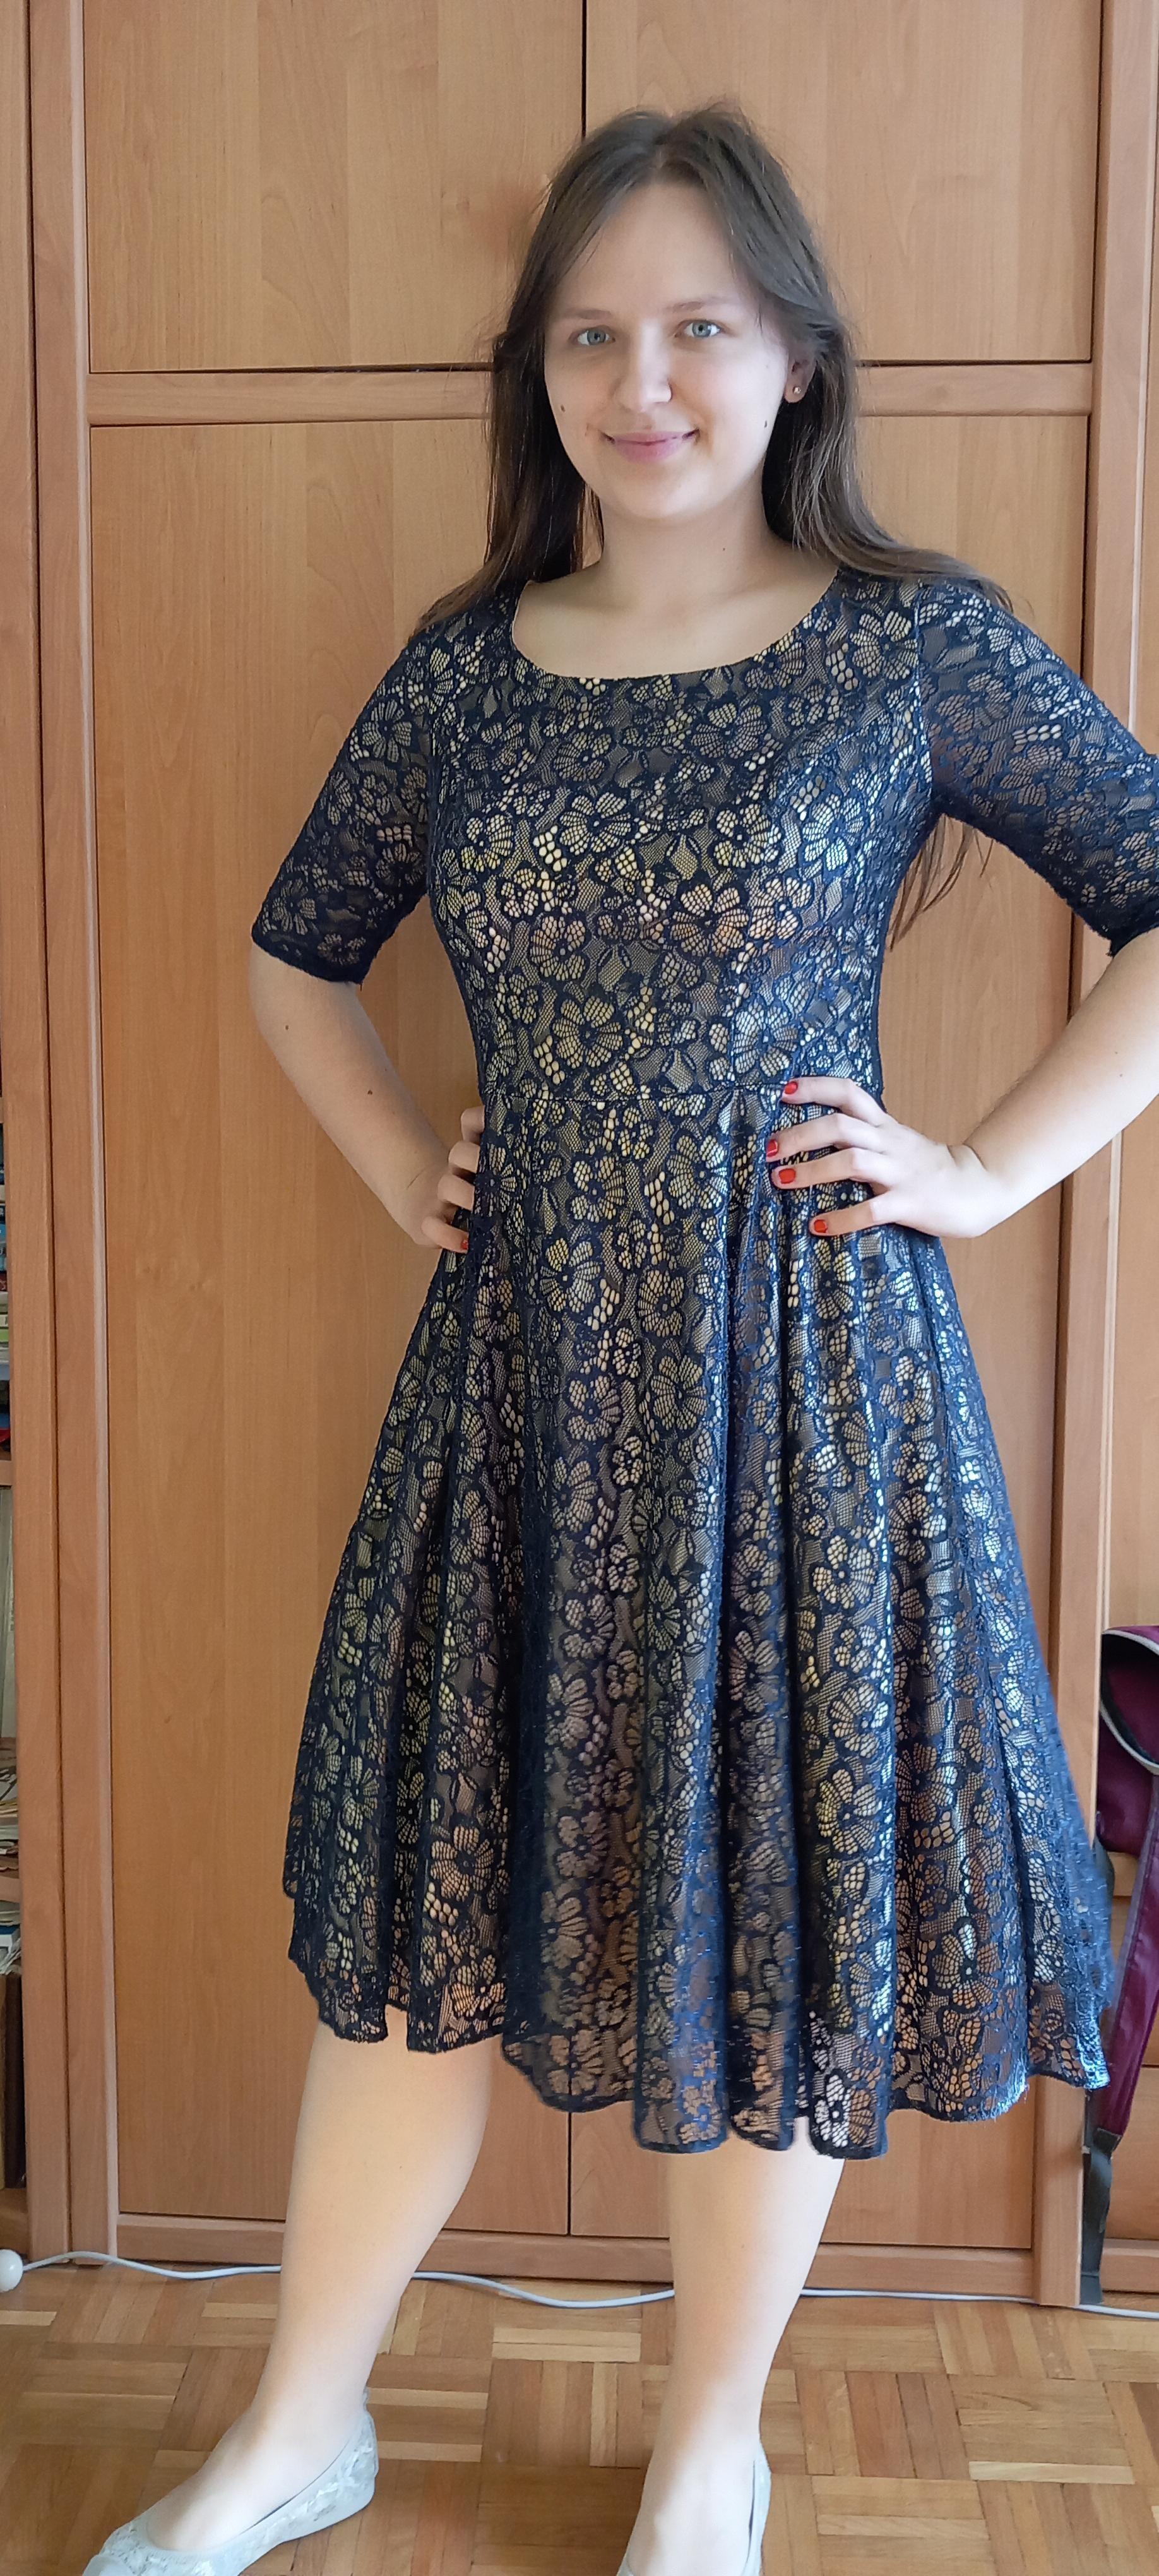dress: (253, 549, 1159, 2160)
